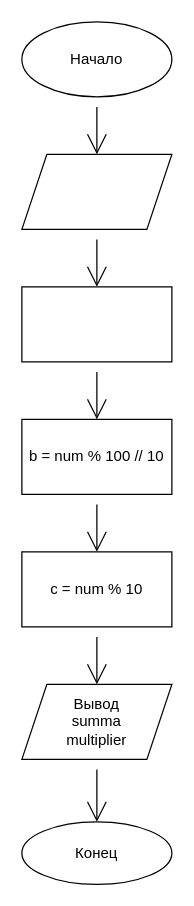
Some shapes in this 194 by 906 pixel diagram are drawn without their labels. The box of each missing label's shape, as (x1, y1, x2, y2) in pixels:
a = num // 100: (21, 286, 172, 362)
Введите num: (21, 153, 172, 229)
